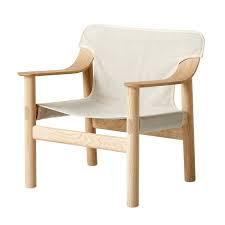chair: (16, 15, 209, 205)
